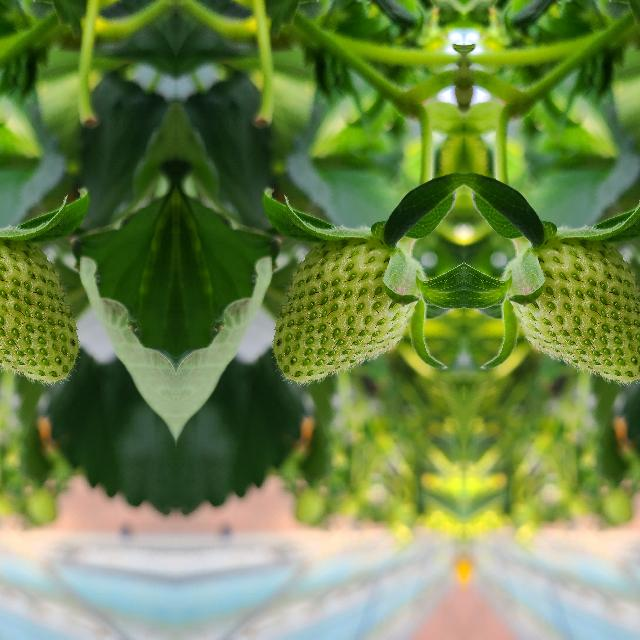Health_25: (272, 241, 412, 381), (513, 241, 640, 381), (0, 241, 78, 381)
